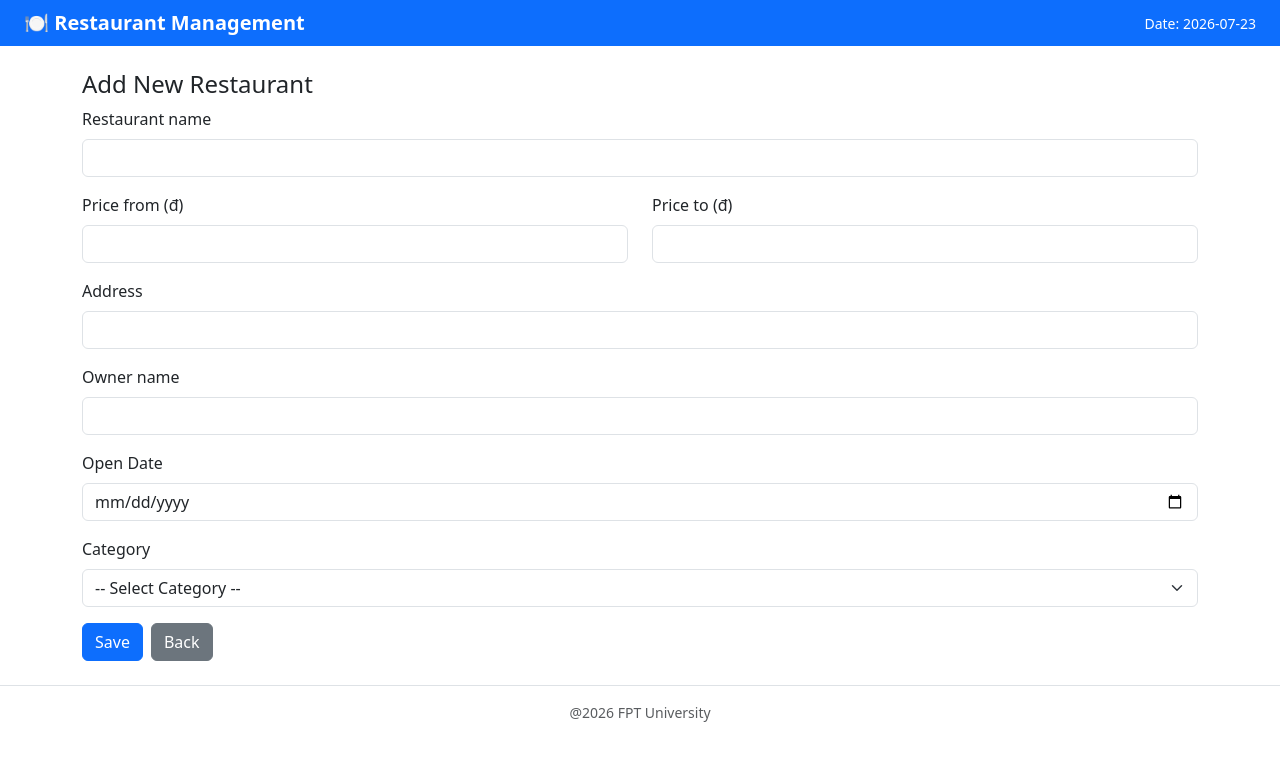
it: AddNewRestaurantPage — validation › hiển thị lỗi khi price to <= price from
Type "50000" into the number field labelled "Price from (đ)".
click(355, 244); type("50000")  # box [82,225,628,263]
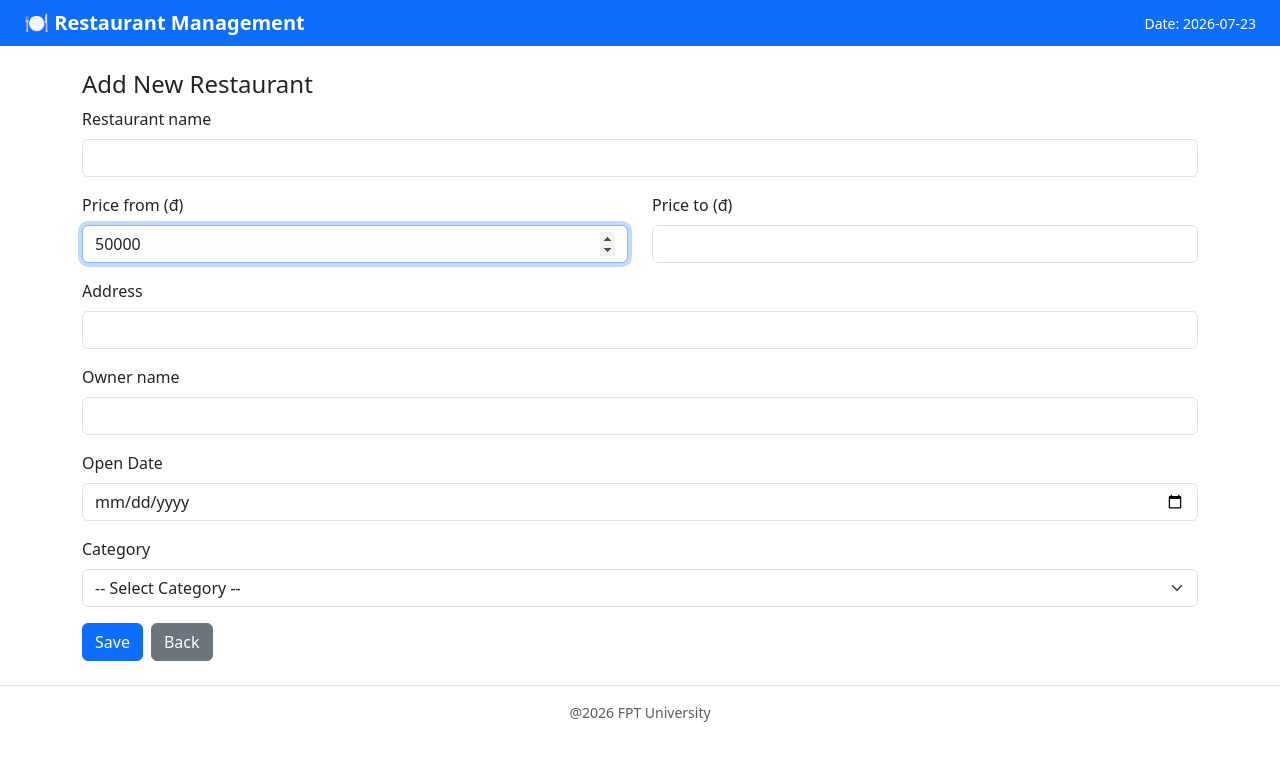
Type "10000" into the number field labelled "Price to (đ)".
click(925, 244); type("10000")  # box [652,225,1198,263]
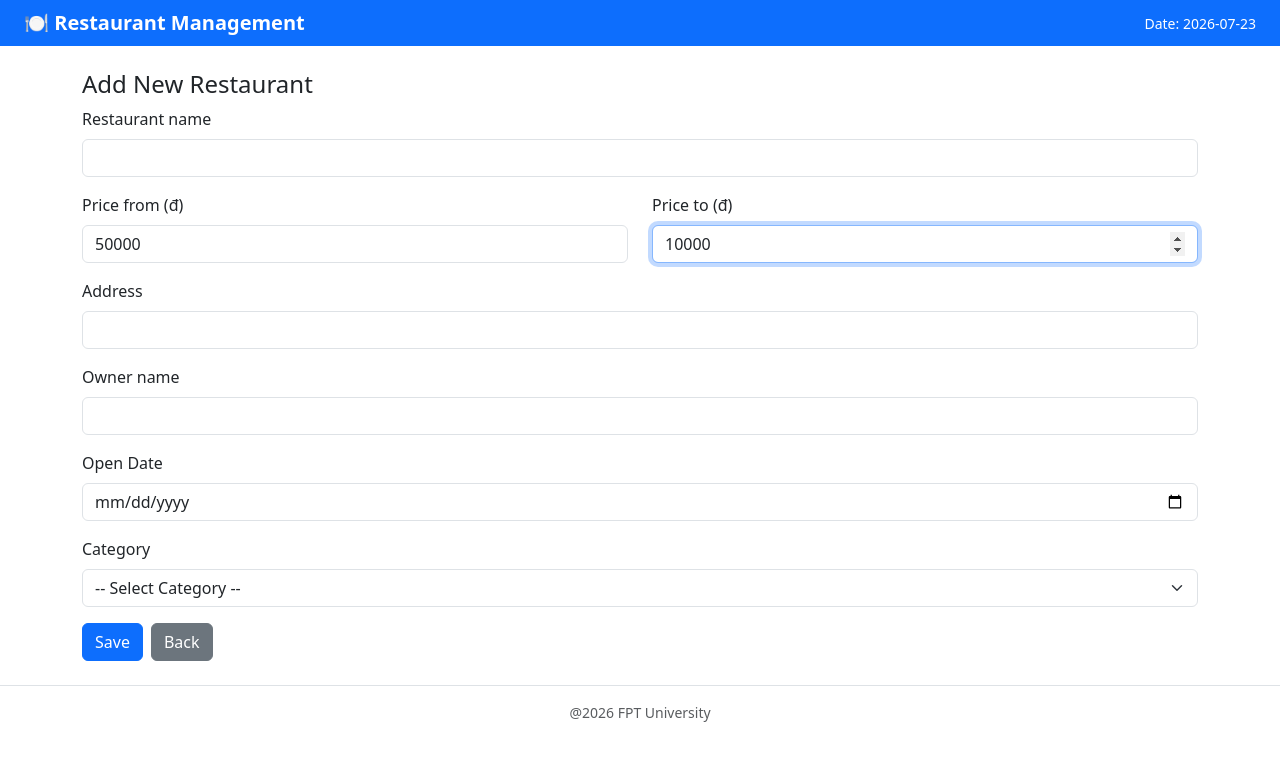
Click the button "Save".
click(112, 642)  # box [82,623,143,661]
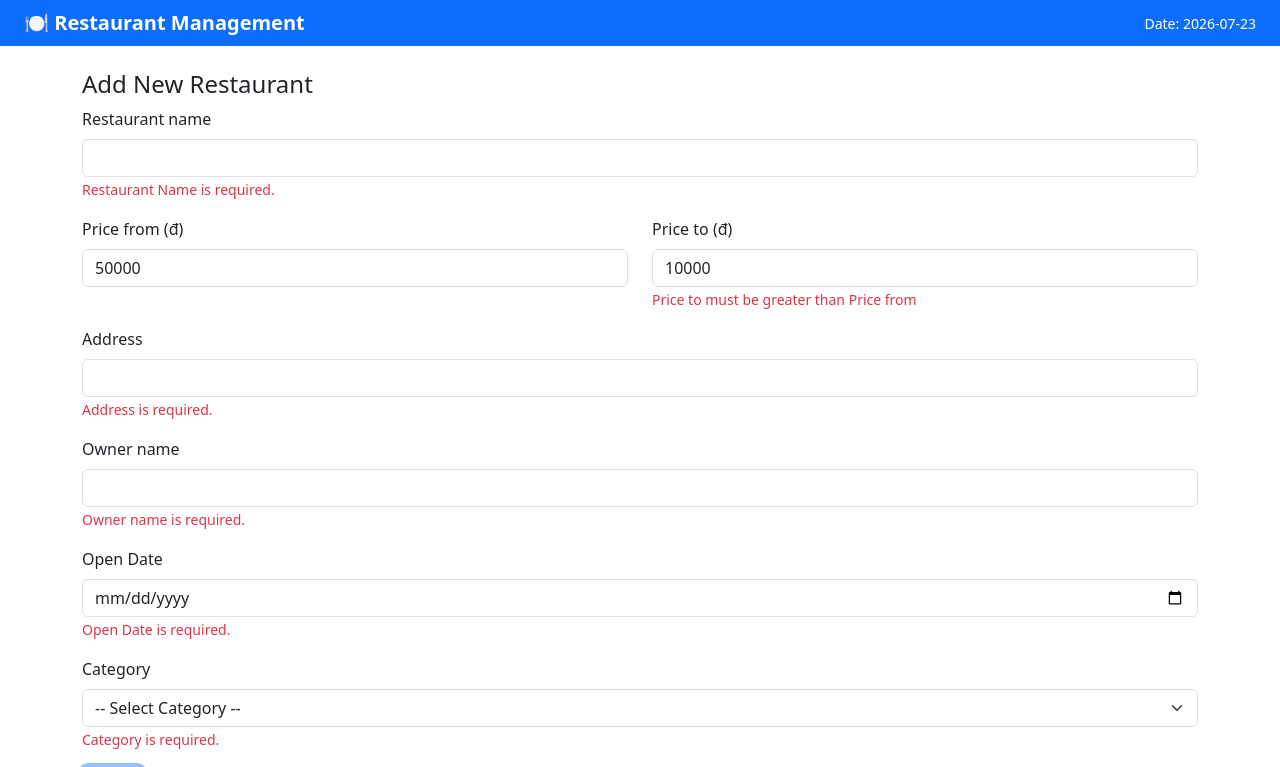
Check: the text "Price to must be greater than Price from" is shown, box [652,290,917,309]
